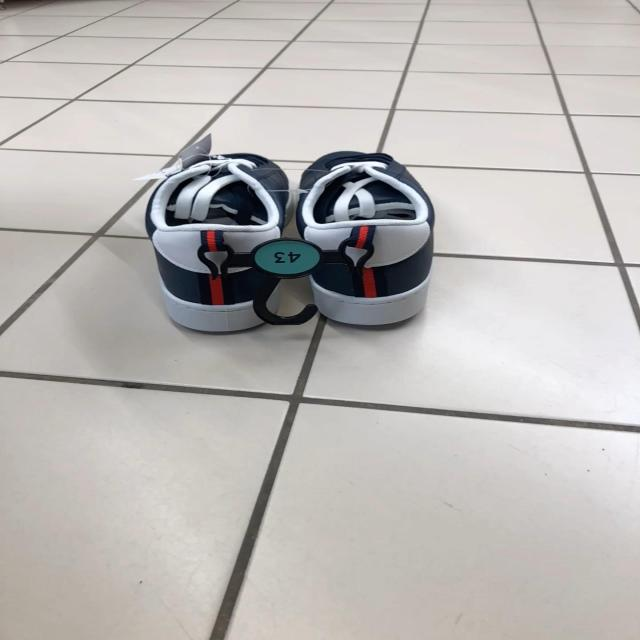shoe: (151, 155, 294, 334), (303, 152, 431, 305)
